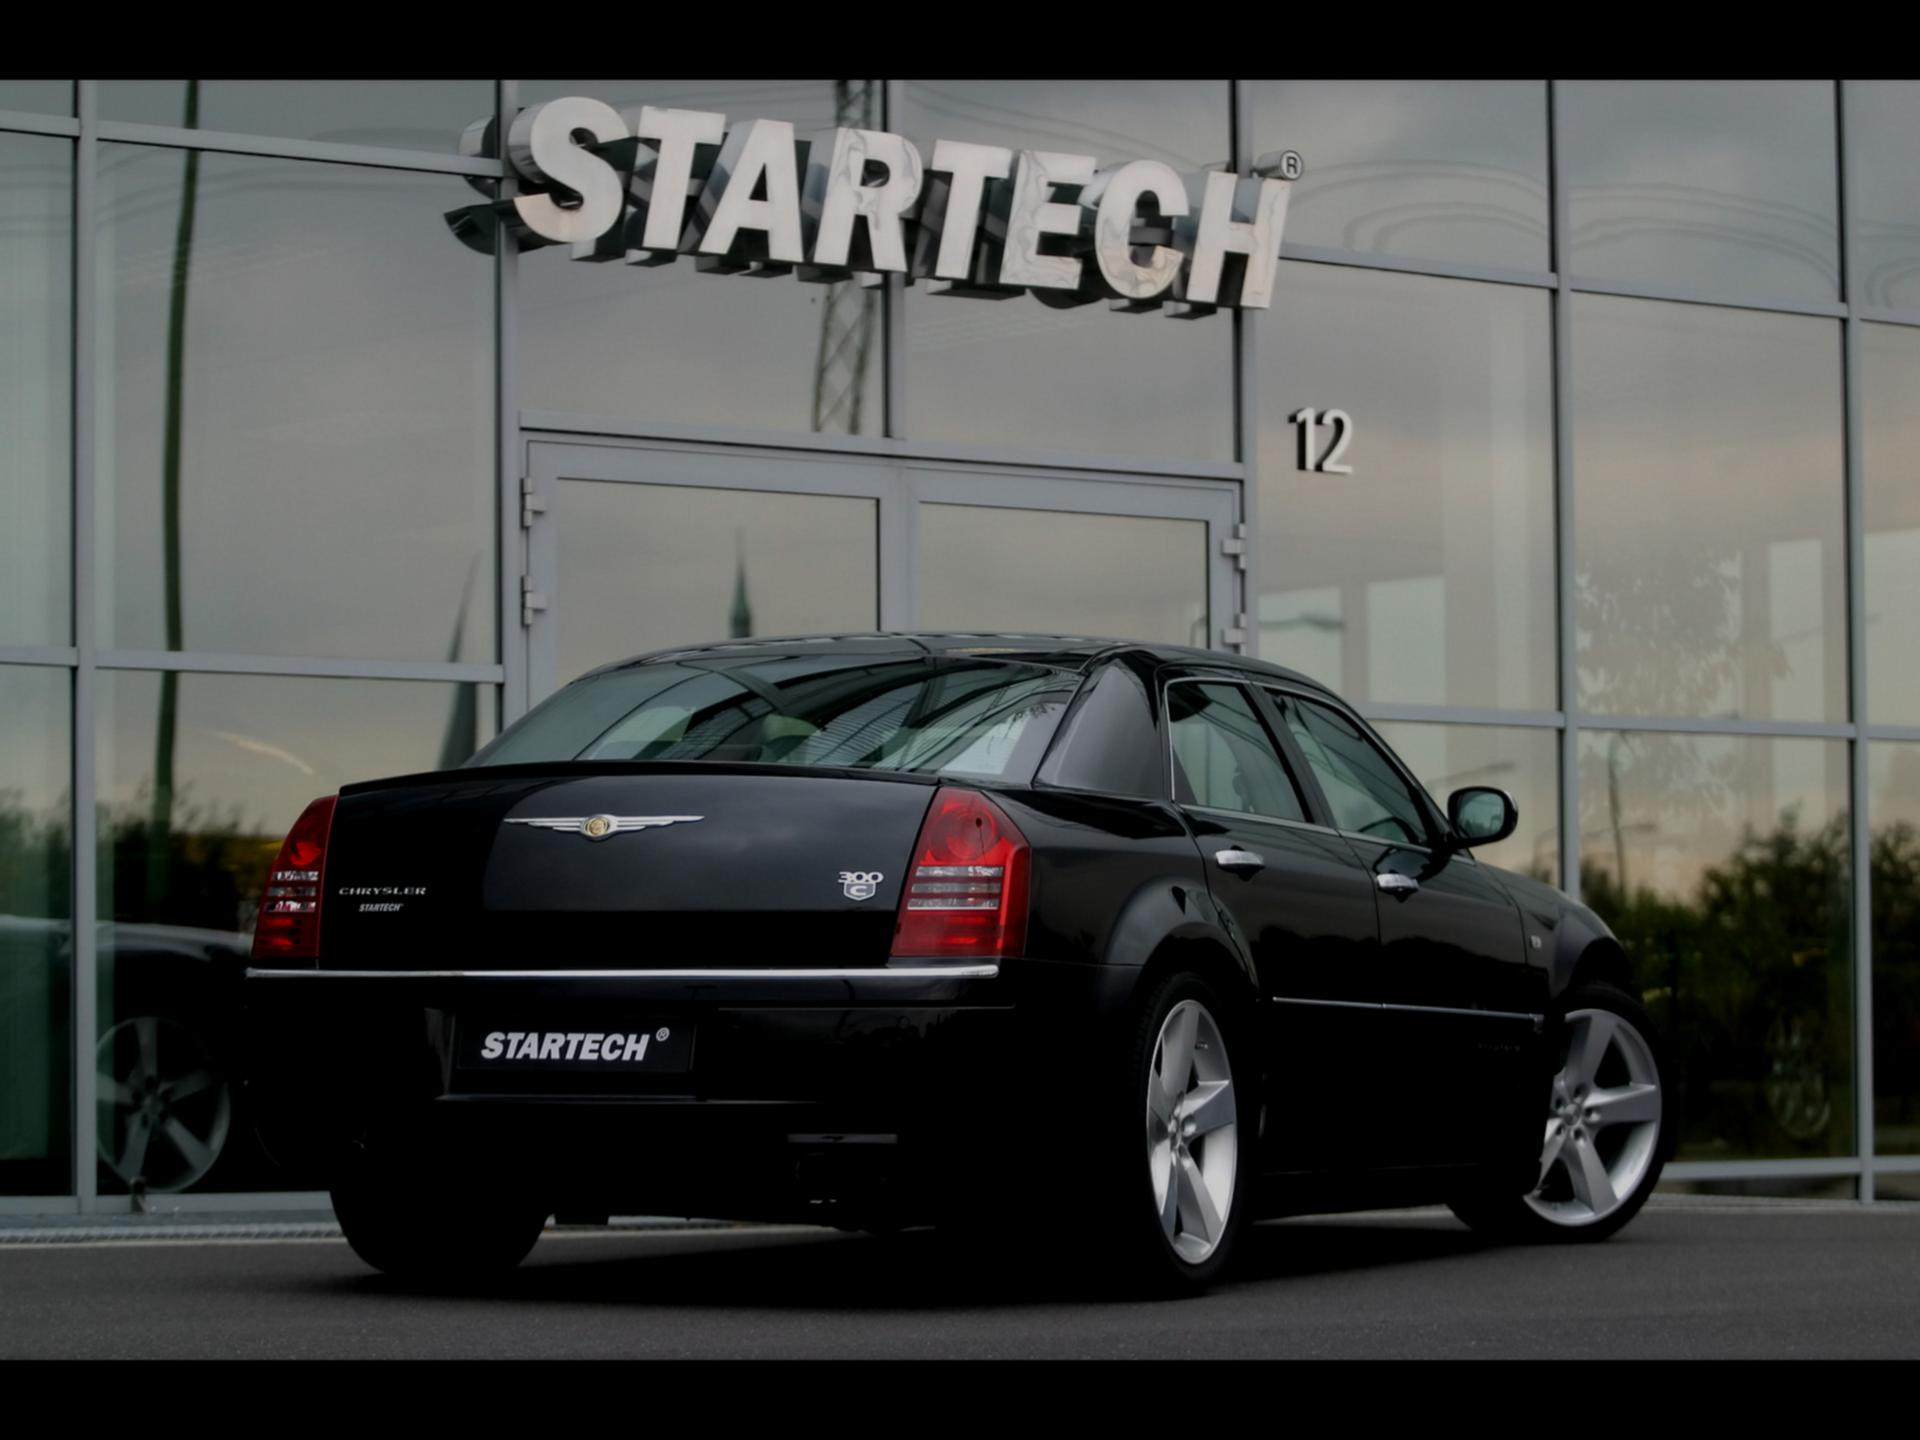Chrysler: (491, 791, 720, 867)
